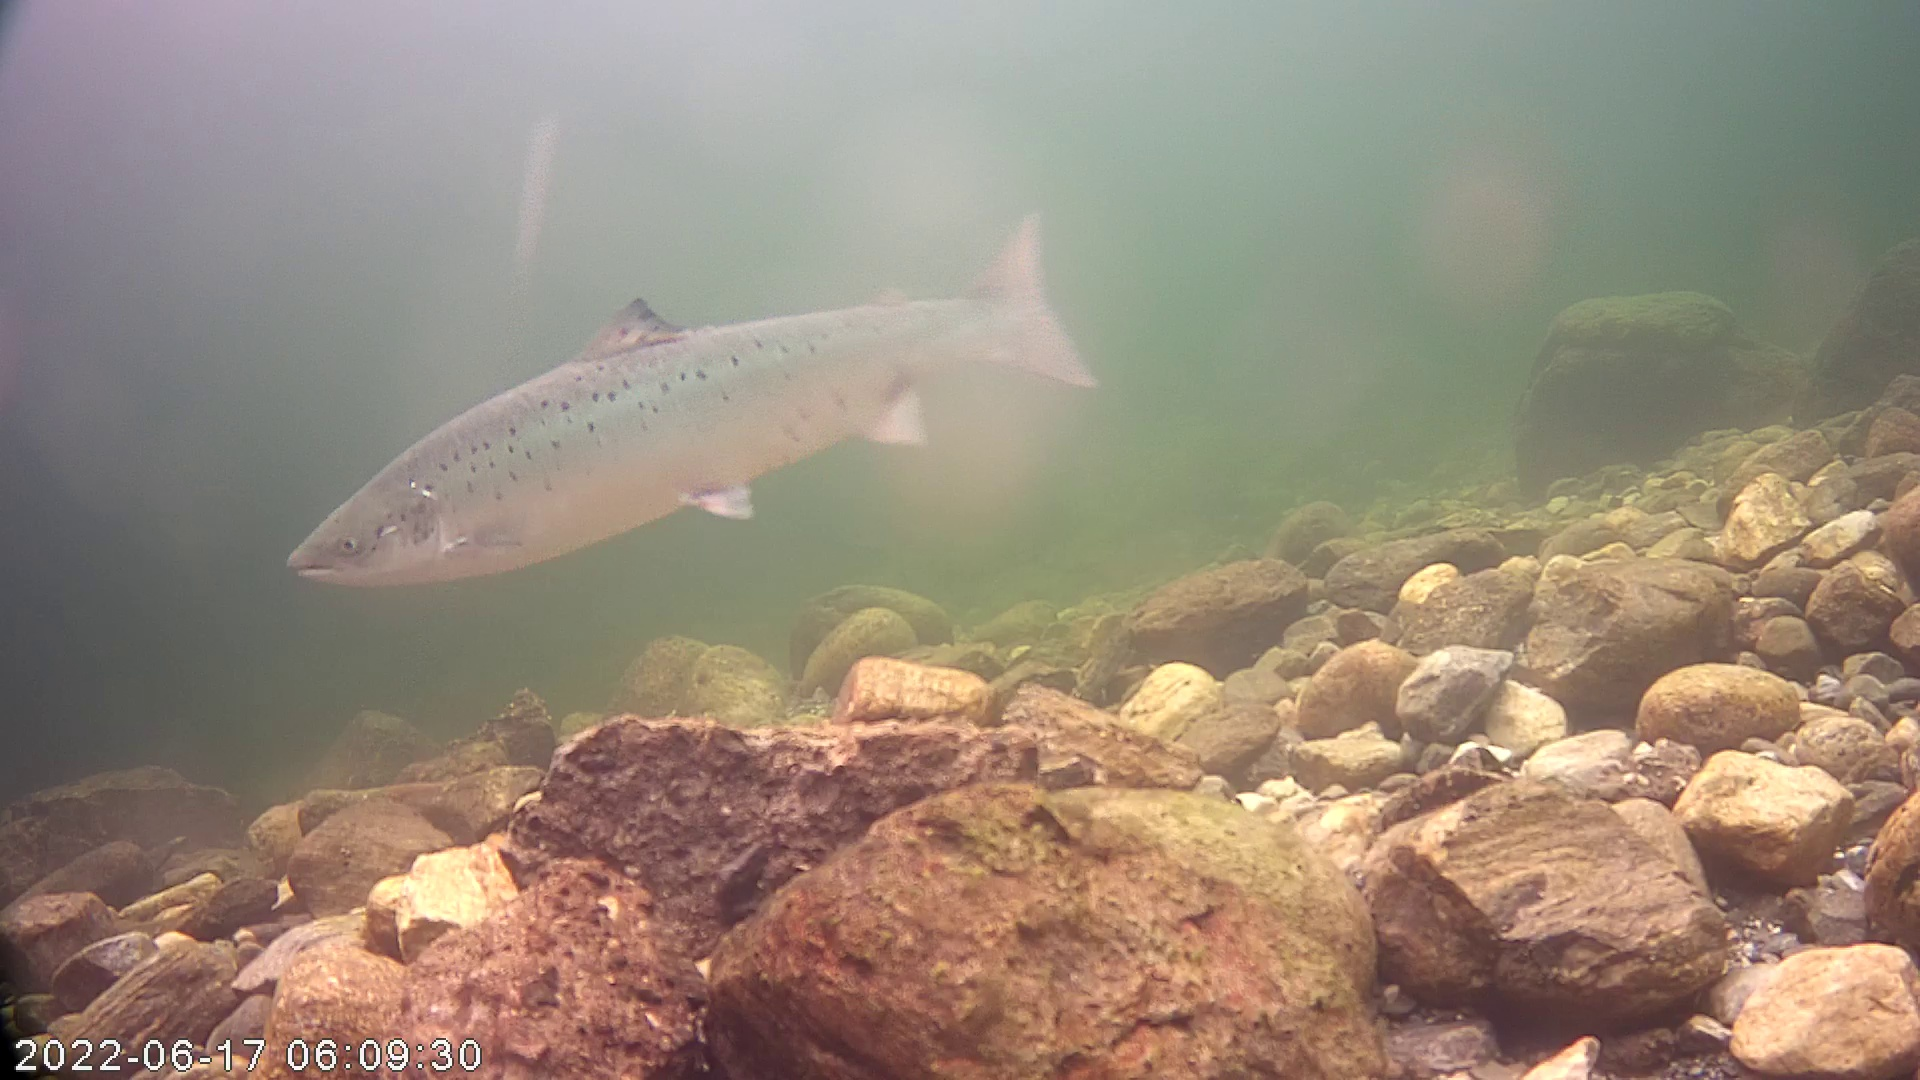salmon: (280, 207, 1101, 593)
